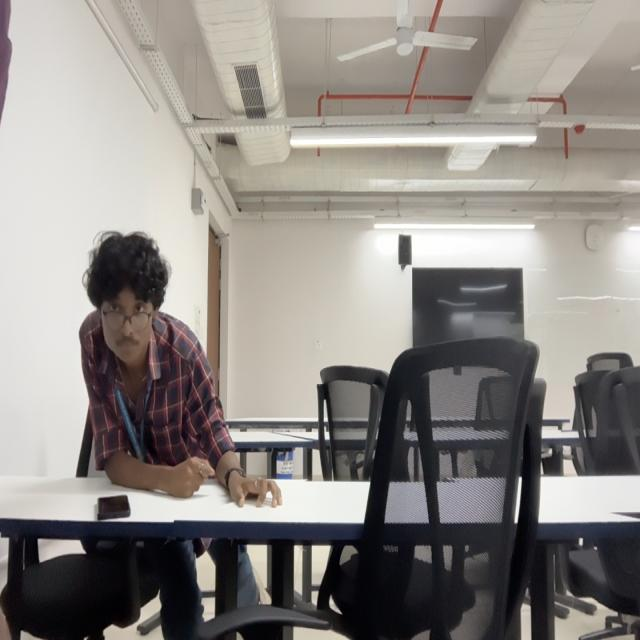darshan: (86, 234, 167, 366)
